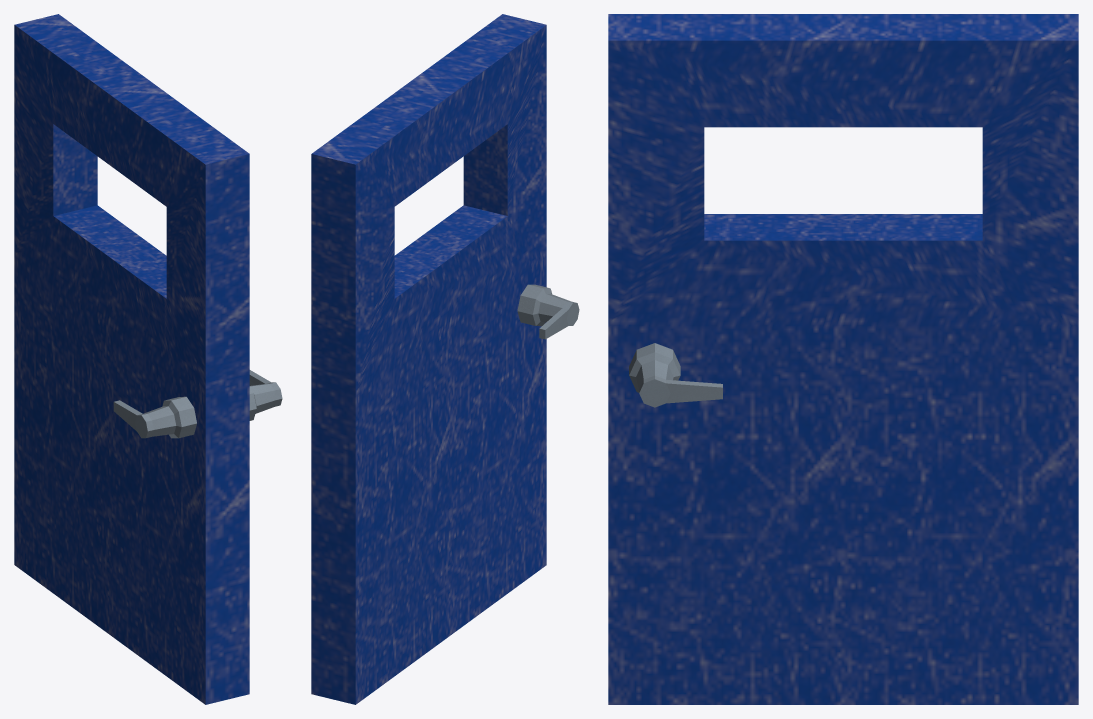
File: door.fbx
3 renders of one model, left to right at view 1: azimuth 30°, elevation 25°; view 2: azimuth 150°, elevation 25°; view 3: azimuth 270°, elevation 25°, orthographic. The views are drawn at different scales.
Parts seen in each view (by area): view 1: door; view 2: door; view 3: door.
Part boxes in pixels (x1=…): door: x1=14, y1=14, x2=282, y2=704; door: x1=311, y1=14, x2=579, y2=704; door: x1=608, y1=14, x2=1078, y2=704.
Size of the model in its own units: 59.78 by 229 by 147.
Materials: 1 (1 with a texture image).
